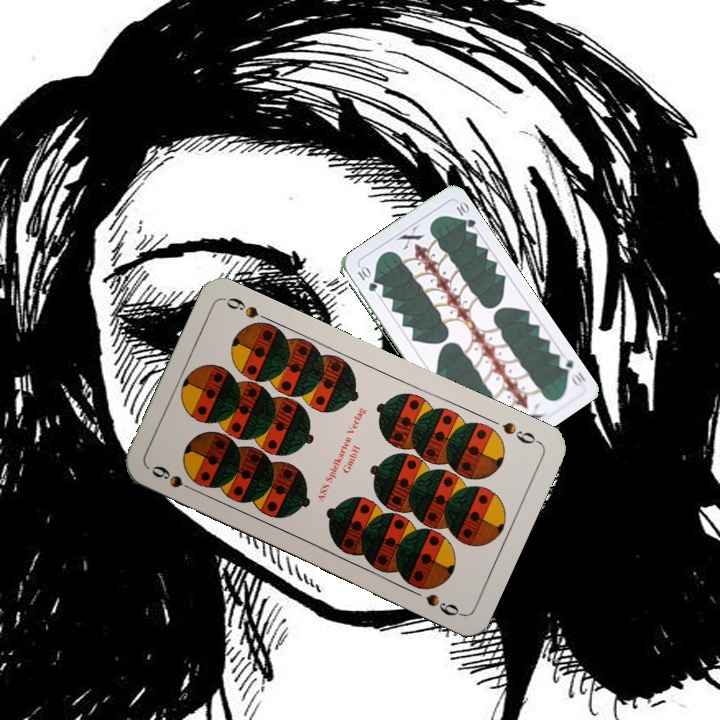G10: (554, 351, 588, 388), (353, 263, 379, 294)
S9: (148, 461, 202, 496), (498, 418, 543, 447)
